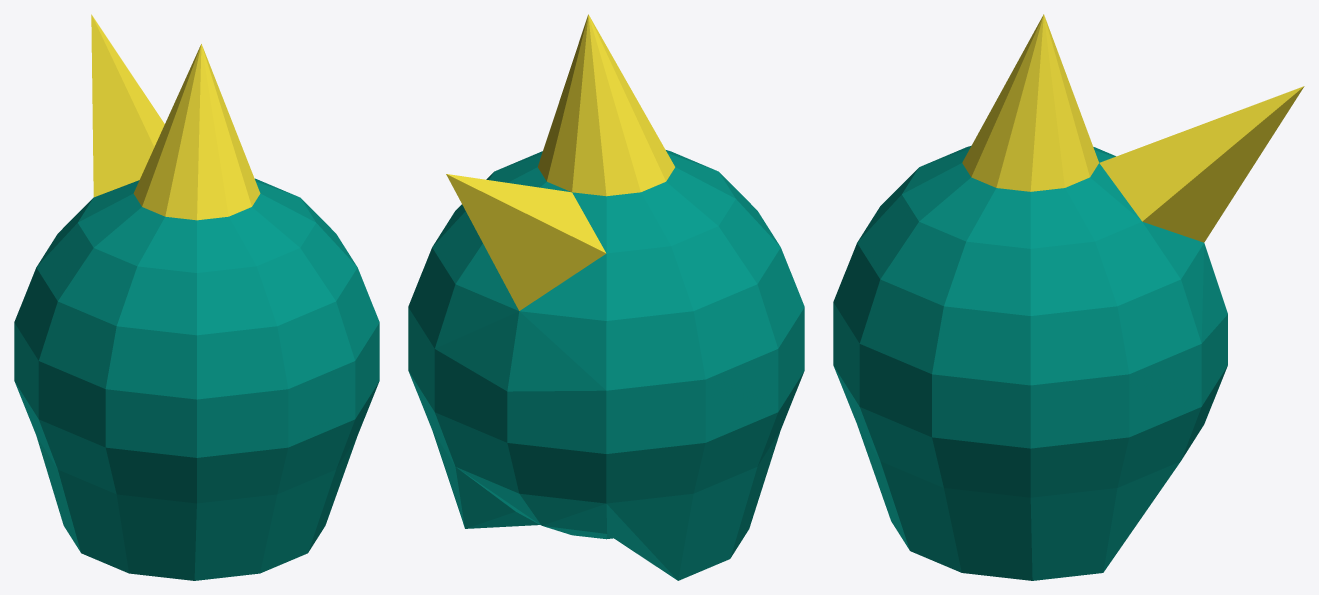
Rendered from n5_n5_group1405966020_lev5.glb.
The picture shows the model from 3 angles, left to right: view 1: azimuth 30°, elevation 25°; view 2: azimuth 150°, elevation 25°; view 3: azimuth 270°, elevation 25°; orthographic projection. The views are drawn at different scales.
Visible parts, largest first — view 1: n5_n5_group1405966020_lev5; view 2: n5_n5_group1405966020_lev5; view 3: n5_n5_group1405966020_lev5.
Boxes of the visible parts, left/top/right/bottom form: n5_n5_group1405966020_lev5: left=14, top=14, right=379, bottom=580; n5_n5_group1405966020_lev5: left=408, top=14, right=804, bottom=580; n5_n5_group1405966020_lev5: left=833, top=14, right=1304, bottom=580.
Size of the model in its own units: 4.19 by 6.02 by 5.01.
